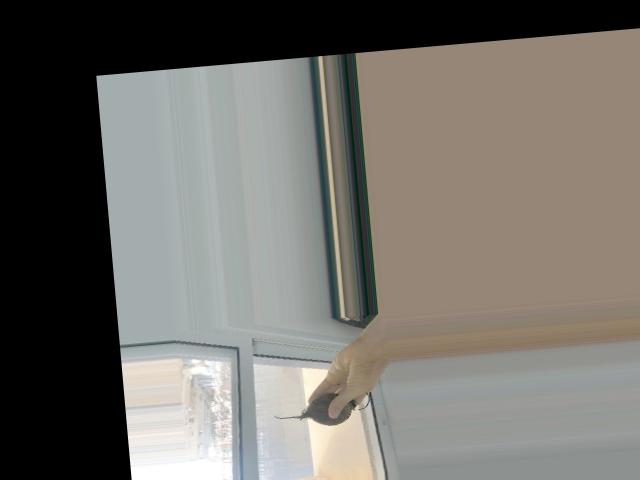beet: (270, 380, 371, 430)
